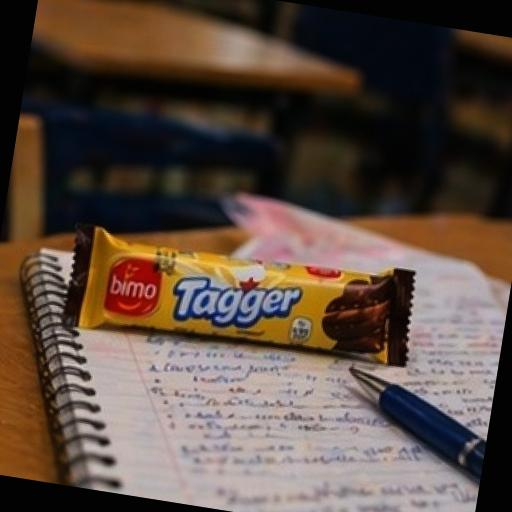tagger: (18, 134, 461, 458)
